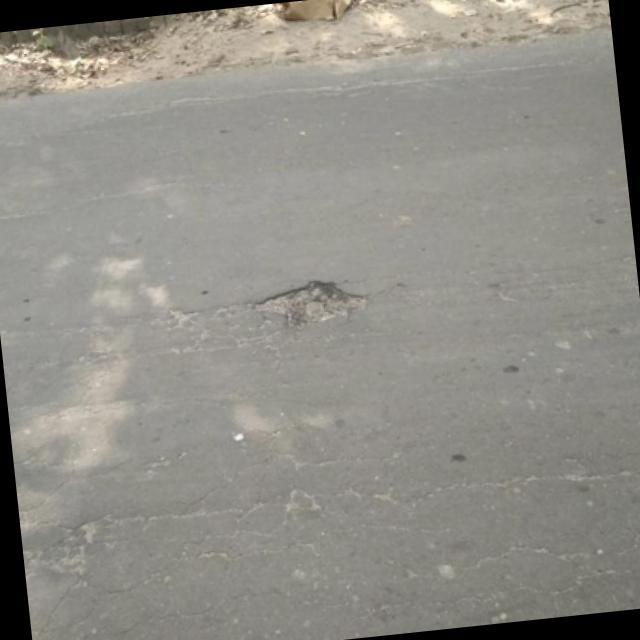Pothole: (254, 280, 367, 327)
